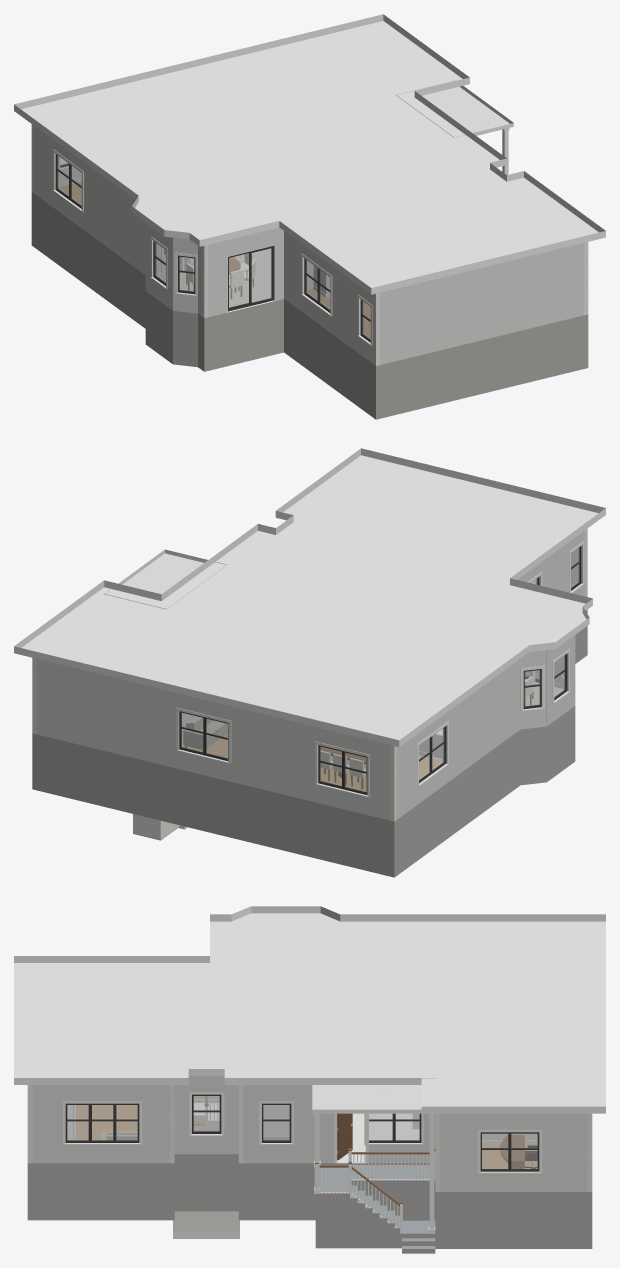
The model's file is house.glb.
3 views of the same model, one above another, from view 1: azimuth 30°, elevation 25°; view 2: azimuth 150°, elevation 25°; view 3: azimuth 270°, elevation 25° (orthographic). The views are drawn at different scales.
Parts seen in each view (by area): view 1: house; view 2: house; view 3: house.
Boxes of the visible parts, x1,y1,x2,y2 form: house: (14, 14, 605, 419); house: (14, 448, 605, 877); house: (14, 906, 605, 1253).
Size of what is drawn, in the model's own units: 48.38 by 20 by 60.38.
